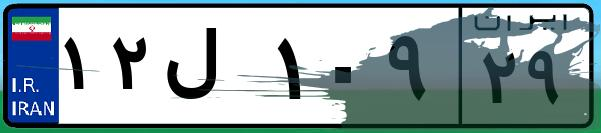0: (330, 28, 385, 110)
1: (270, 28, 330, 110), (57, 26, 110, 100)
2: (475, 38, 525, 113), (110, 28, 158, 98)
9: (385, 28, 445, 110), (525, 38, 570, 115)
ل: (158, 20, 270, 120)
